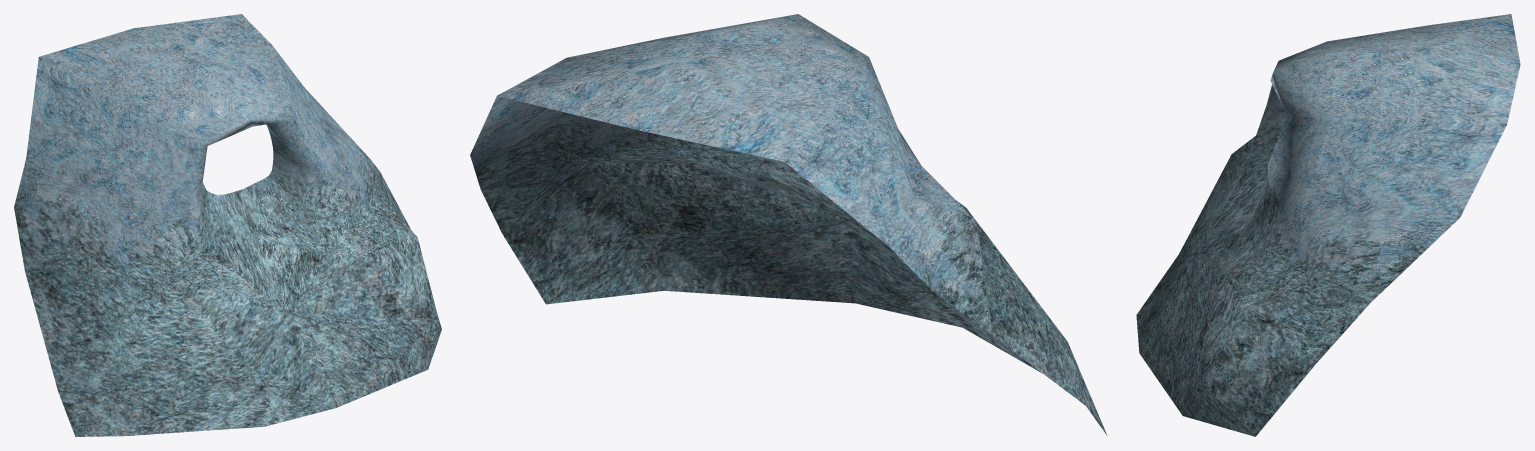
File: thm_all_cave_s02_ice_r0_mesh_l3.fbx
3 renders of one model, left to right at view 1: azimuth 30°, elevation 25°; view 2: azimuth 150°, elevation 25°; view 3: azimuth 270°, elevation 25°, orthographic. The views are drawn at different scales.
Parts seen in each view (by area): view 1: mesh_node; view 2: mesh_node; view 3: mesh_node.
Boxes of the visible parts, bbox=[...] form: mesh_node: bbox=[14, 14, 441, 436]; mesh_node: bbox=[470, 14, 1107, 435]; mesh_node: bbox=[1136, 14, 1520, 436].
Size of the model in its own units: 48.32 by 33.74 by 39.28.
